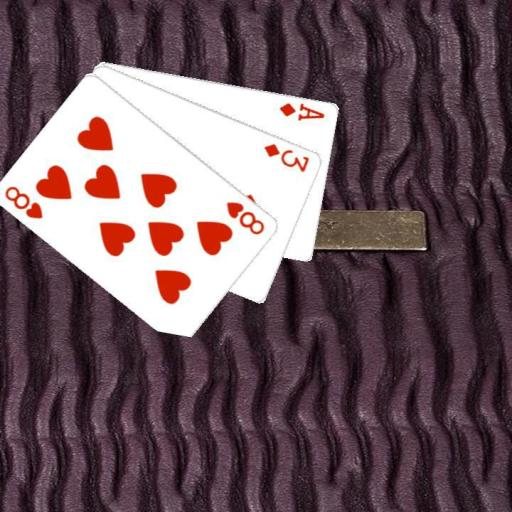3D: (261, 140, 311, 174)
8H: (223, 198, 267, 237), (1, 182, 45, 220)
AD: (277, 100, 327, 123)
